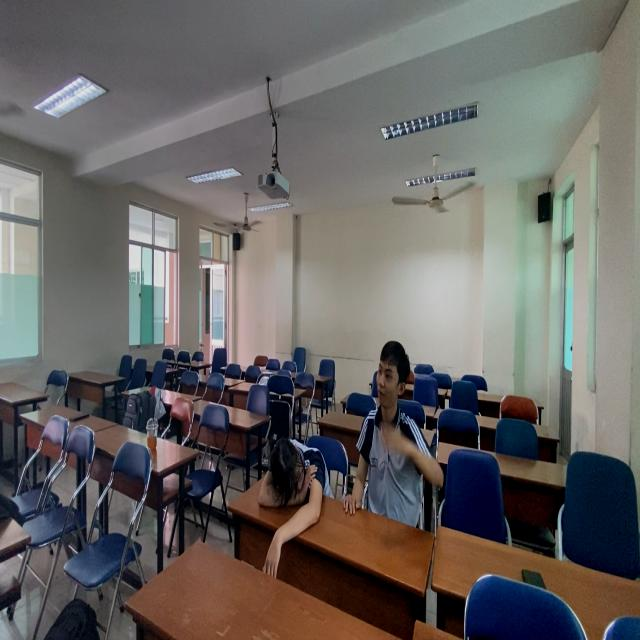sleep: (253, 423, 330, 554)
